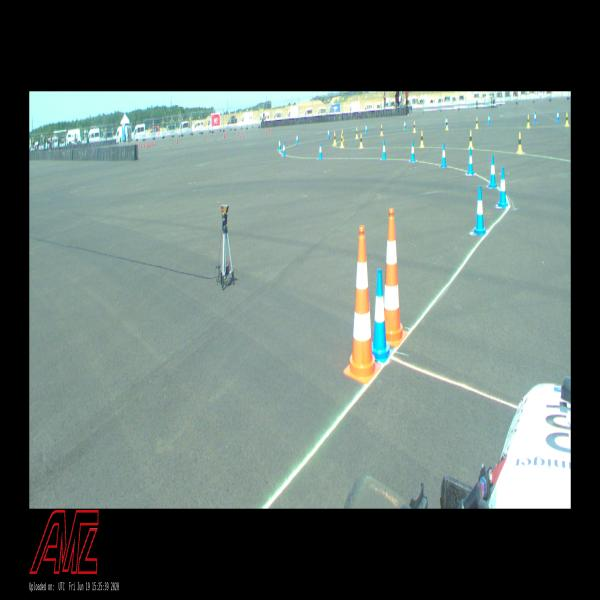blue_cone: (372, 269, 393, 363), (473, 186, 487, 235), (498, 168, 508, 208), (488, 155, 497, 188), (467, 147, 474, 175), (441, 143, 447, 167), (410, 140, 416, 162), (382, 141, 386, 160), (318, 142, 322, 159), (282, 141, 286, 156), (278, 138, 281, 151), (557, 110, 560, 121), (327, 128, 330, 138), (444, 116, 447, 126), (534, 111, 536, 122), (488, 113, 490, 124), (296, 133, 298, 144), (365, 123, 367, 133), (404, 120, 406, 130)
large_orange_cone: (343, 225, 381, 383), (384, 208, 408, 347)
yellow_cone: (516, 132, 523, 153), (469, 130, 473, 148), (420, 130, 424, 147), (359, 133, 363, 148), (565, 112, 569, 126), (340, 134, 344, 148), (526, 115, 530, 127), (445, 118, 449, 130), (475, 117, 479, 128), (333, 132, 336, 145), (341, 129, 344, 142), (413, 122, 416, 132), (380, 125, 383, 135), (356, 127, 358, 138)
